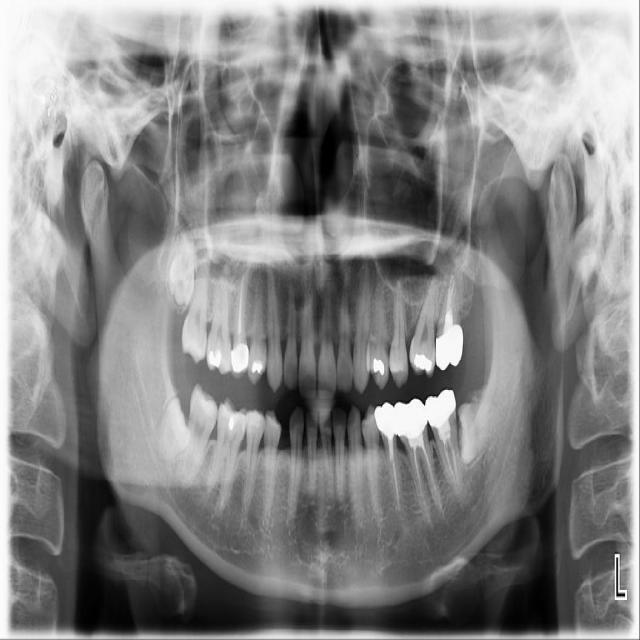Crown: (392, 398, 428, 438), (424, 389, 456, 431), (435, 326, 464, 372), (375, 402, 397, 434), (230, 343, 249, 379)
Filling: (226, 414, 245, 439), (207, 348, 225, 368), (413, 353, 433, 371), (370, 358, 386, 378), (250, 361, 265, 376)
Missing teeth: (280, 425, 291, 452)
Root Canal Treatment: (424, 447, 440, 510), (414, 454, 429, 513), (445, 440, 459, 492), (449, 441, 459, 489), (237, 277, 242, 344), (393, 461, 399, 507), (447, 277, 453, 311)
impacted tooth: (458, 399, 499, 463), (151, 396, 189, 459), (169, 218, 194, 310)
